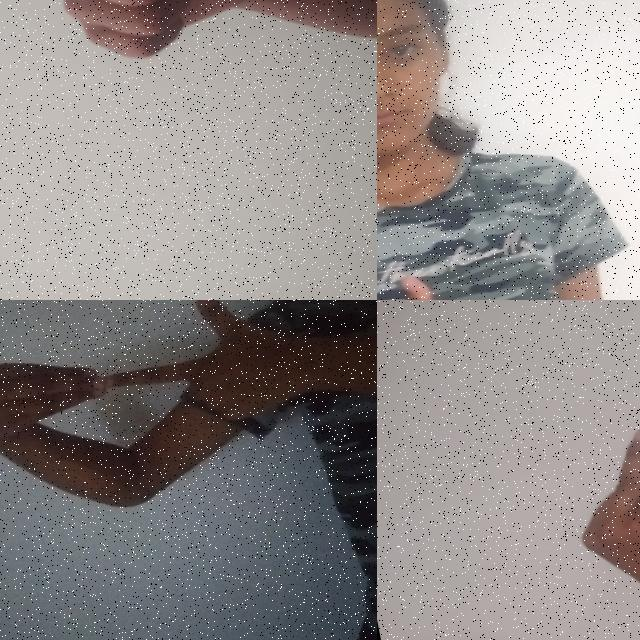Five Fathers: (0, 300, 310, 496)
Middle Finger: (559, 405, 640, 634)
Thumbs Up: (7, 0, 318, 86), (377, 256, 528, 300)
